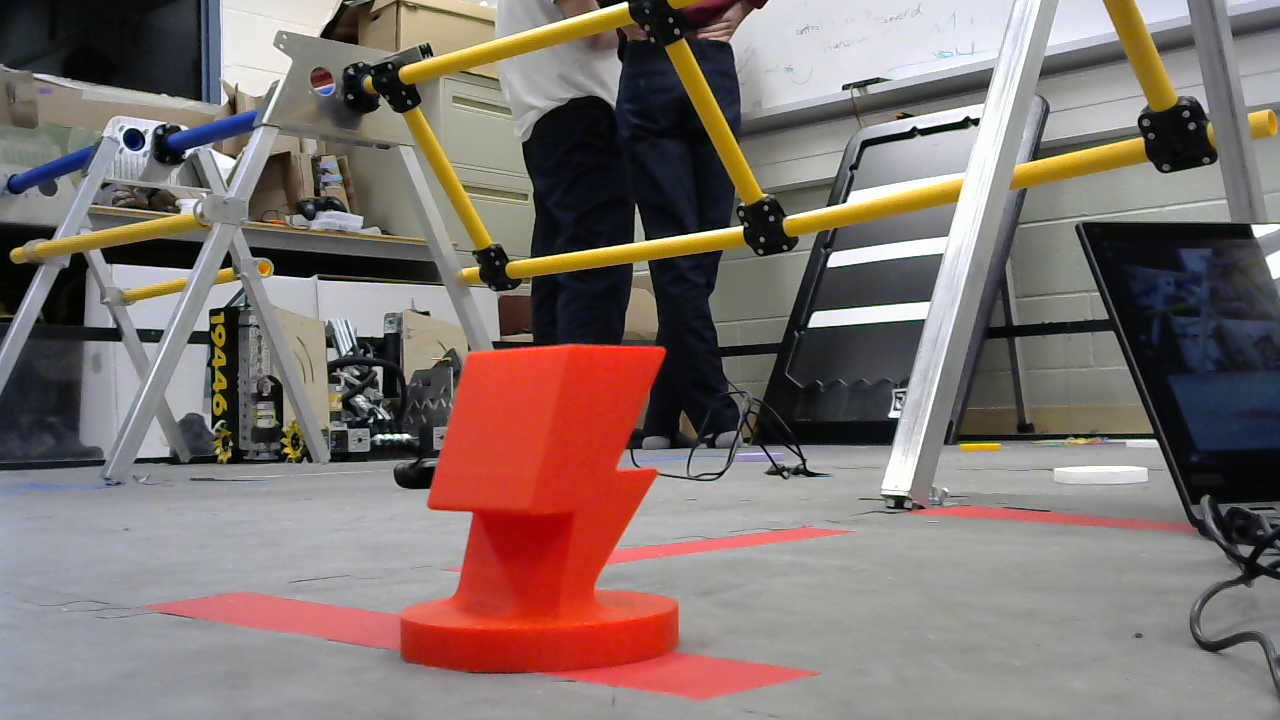redobject: (396, 340, 681, 678)
